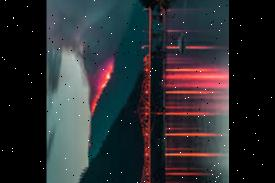fire: (88, 56, 115, 120)
